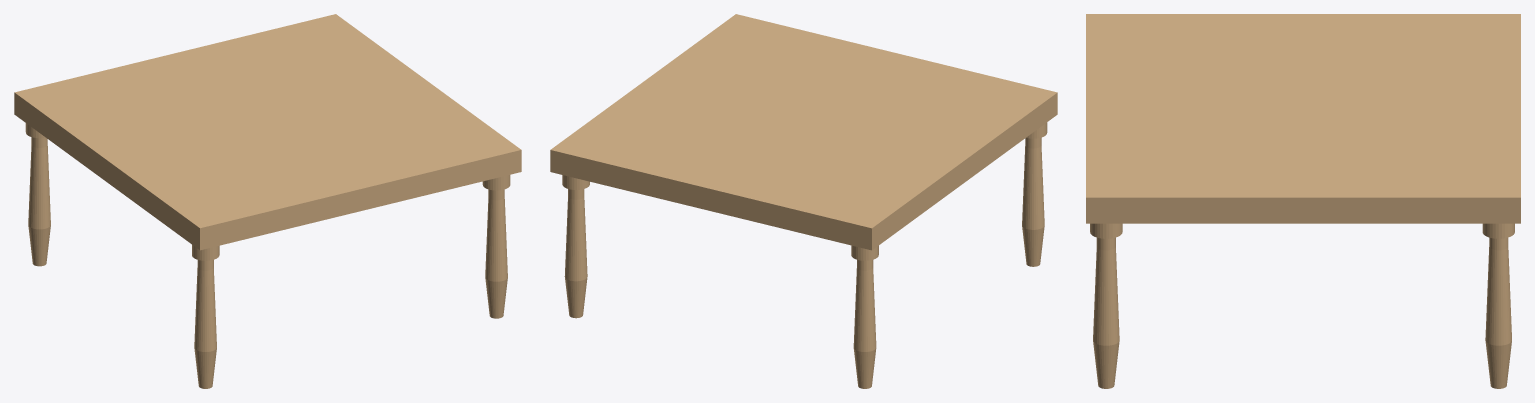
The model's file is table.glb.
The picture shows the model from 3 angles, left to right: view 1: azimuth 30°, elevation 25°; view 2: azimuth 150°, elevation 25°; view 3: azimuth 270°, elevation 25°; orthographic projection. The views are drawn at different scales.
Visible parts, largest first — view 1: Table, TableLeg3, TableLeg4, TableLeg1; view 2: Table, TableLeg1, TableLeg2, TableLeg3; view 3: Table, TableLeg4, TableLeg2.
Boxes of the visible parts, x1,y1,x2,y2 form: Table: (14,14,521,250); TableLeg3: (192,245,219,388); TableLeg4: (482,175,510,318); TableLeg1: (25,123,50,266); Table: (550,14,1057,250); TableLeg1: (851,245,878,388); TableLeg2: (562,175,589,318); TableLeg3: (1022,122,1047,266); Table: (1086,14,1520,223); TableLeg4: (1090,223,1122,388); TableLeg2: (1482,223,1514,388).
Bounding box in the file's own units: 1.27 × 0.6343 × 1.27.
